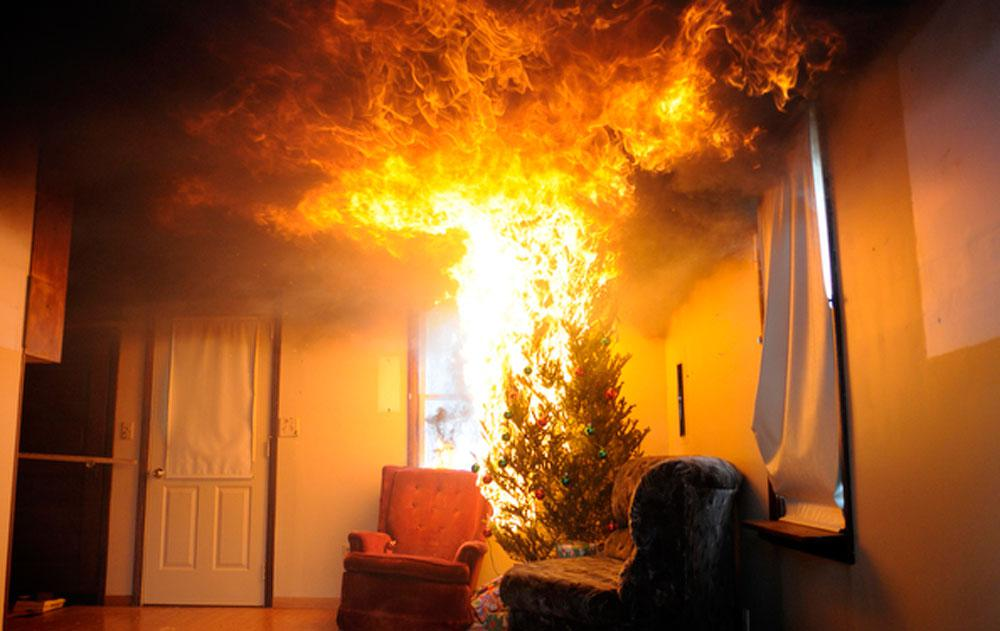fire: (156, 13, 839, 515)
